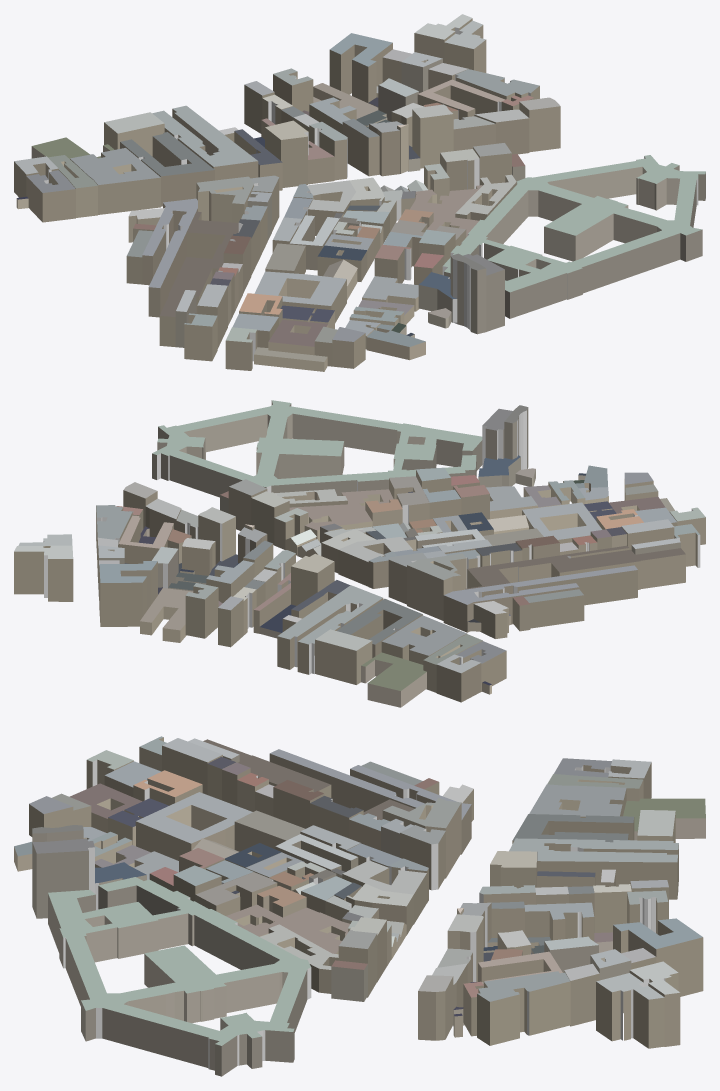
The picture shows the model from 3 angles, top to bottom: view 1: azimuth 30°, elevation 25°; view 2: azimuth 150°, elevation 25°; view 3: azimuth 270°, elevation 25°; orthographic projection. The views are drawn at different scales.
Visible parts, largest first — view 1: tuile; view 2: tuile; view 3: tuile.
Boxes of the visible parts, left/top/right/bottom form: tuile: left=14, top=14, right=705, bottom=371; tuile: left=14, top=400, right=705, bottom=707; tuile: left=14, top=736, right=705, bottom=1076.
Bounding box in the file's own units: 293 × 36.11 × 274.
